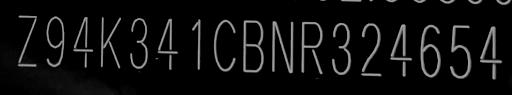letter: (96, 14, 124, 69), (237, 18, 265, 73), (358, 22, 386, 77), (478, 22, 504, 79), (212, 18, 238, 73), (269, 19, 295, 74), (448, 23, 474, 78), (70, 14, 96, 67), (388, 22, 414, 75), (300, 20, 324, 75), (418, 23, 442, 78), (155, 17, 179, 70), (16, 13, 38, 68), (44, 14, 66, 67), (330, 21, 352, 74), (128, 16, 148, 69), (189, 17, 207, 72)
